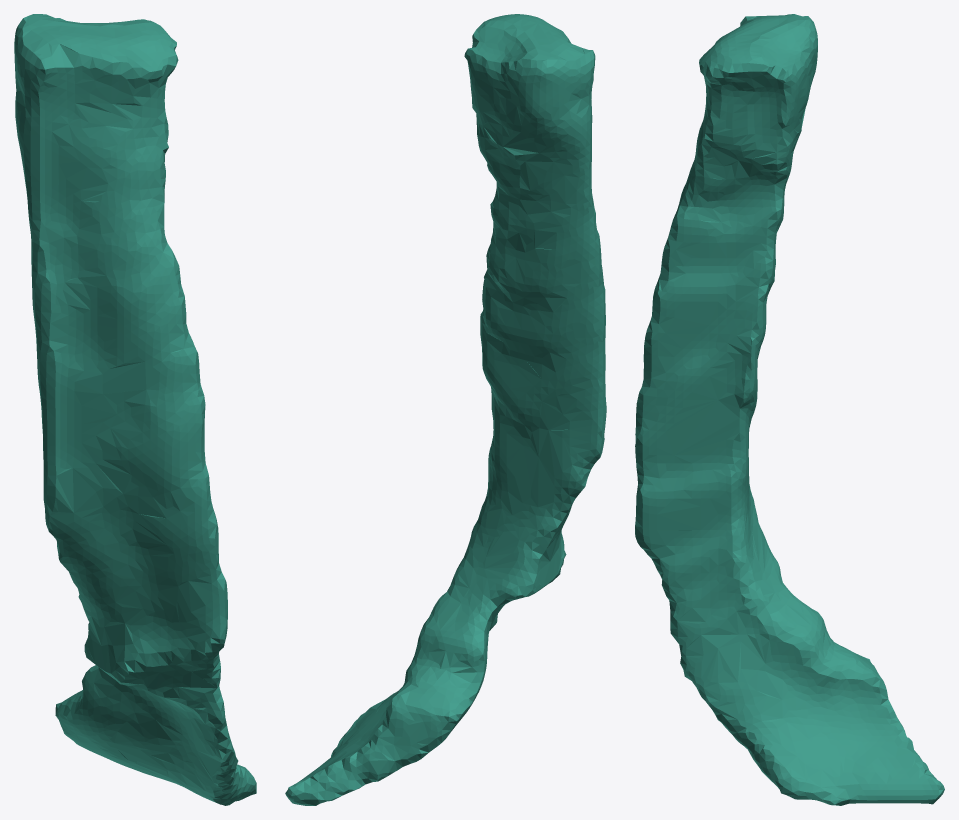
Rendered from Model_64_RH__Area_30_of_cortex_(A30).obj.
3 views of the same model, side by side, from view 1: azimuth 30°, elevation 25°; view 2: azimuth 150°, elevation 25°; view 3: azimuth 270°, elevation 25° (orthographic). The views are drawn at different scales.
Bounding box in the file's own units: 2.8 × 8.92 × 3.56.
